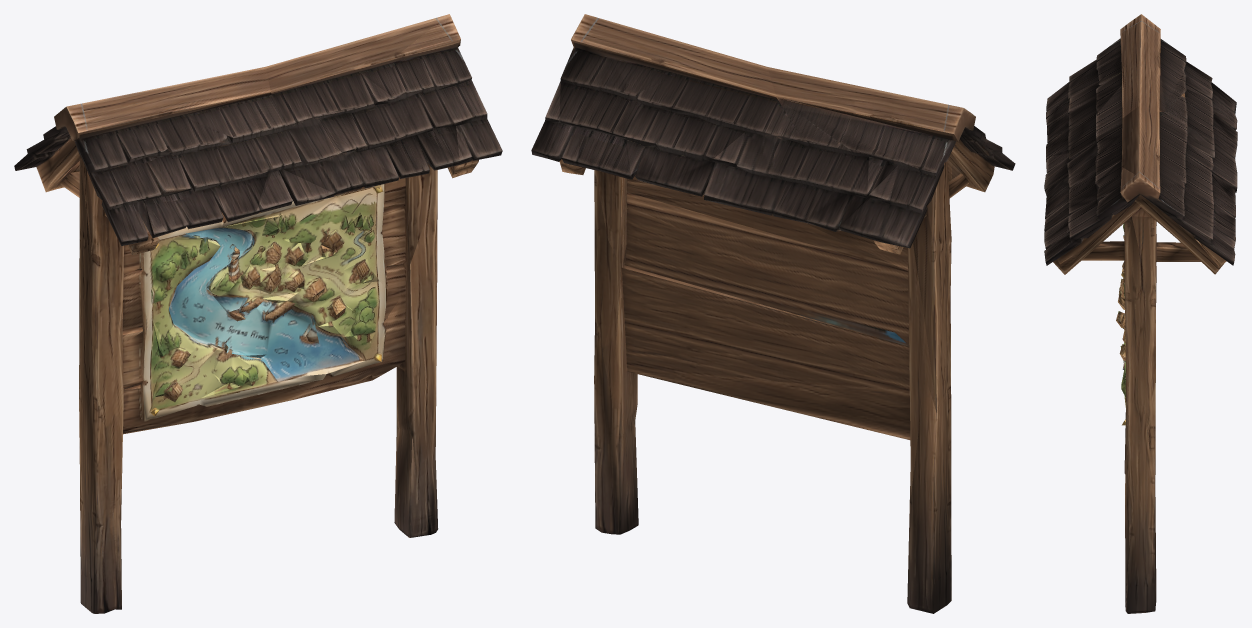
File: Prop_MapBoard.fbx
The picture shows the model from 3 angles, left to right: view 1: azimuth 30°, elevation 25°; view 2: azimuth 150°, elevation 25°; view 3: azimuth 270°, elevation 25°; orthographic projection. The views are drawn at different scales.
Parts seen in each view (by area): view 1: Mesh_0; view 2: Mesh_0; view 3: Mesh_0.
Part boxes in pixels (<box>): Mesh_0: <box>14,14,502,613</box>; Mesh_0: <box>531,14,1015,613</box>; Mesh_0: <box>1044,14,1237,613</box>.
Bounding box in the file's own units: 151 × 190 × 74.79.
1 material, 1 textured.
